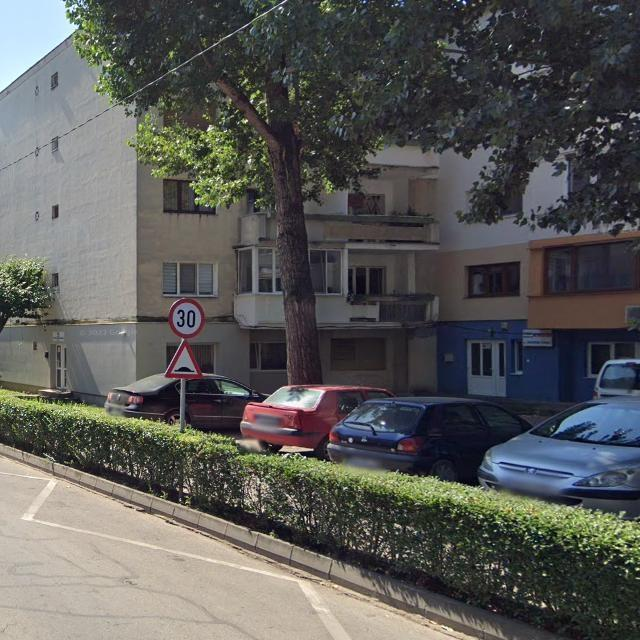forb_speed_over_30: (169, 298, 205, 338)
